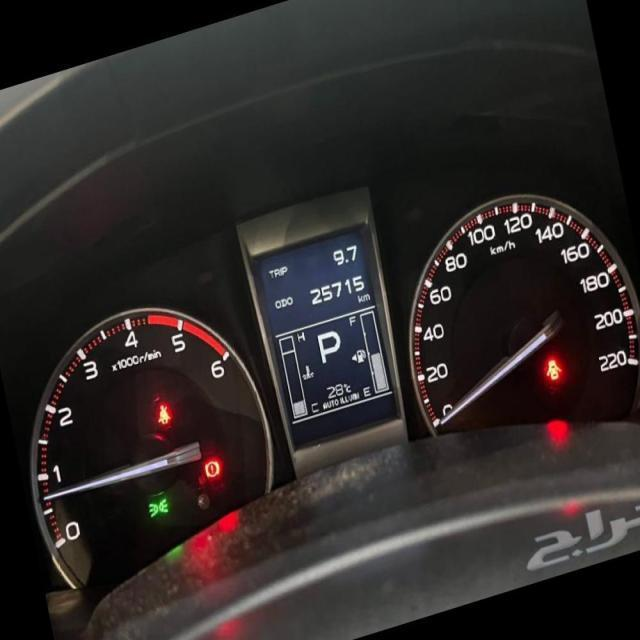Seat Belt: (156, 401, 172, 427)
